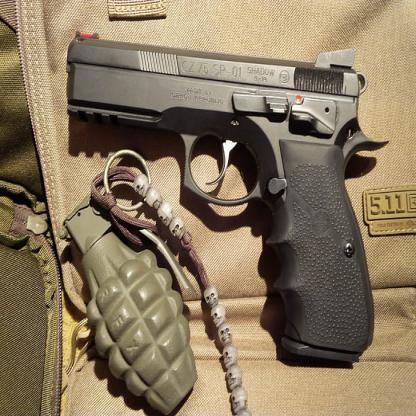Grenade: (59, 148, 199, 416)
Pistol: (65, 30, 390, 365)
